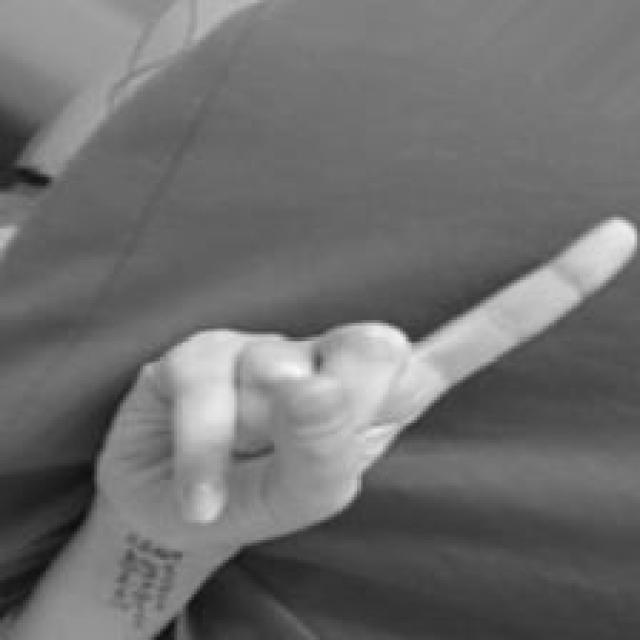I: (93, 216, 640, 553)
